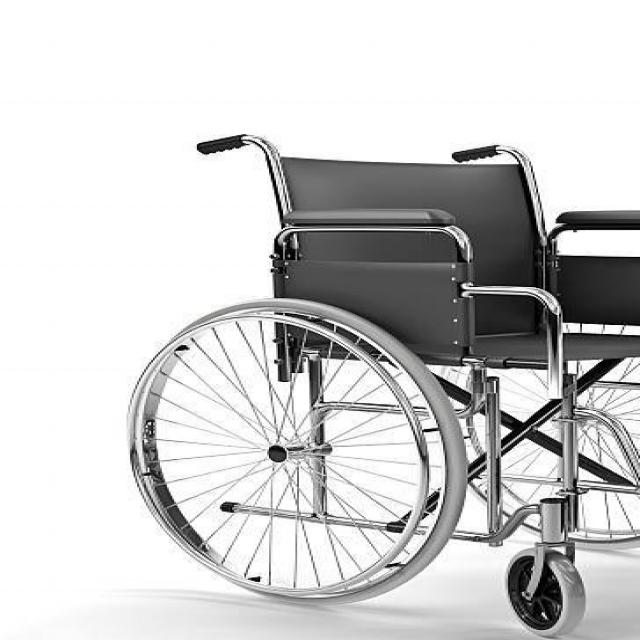wheelchair: (109, 102, 640, 639)
